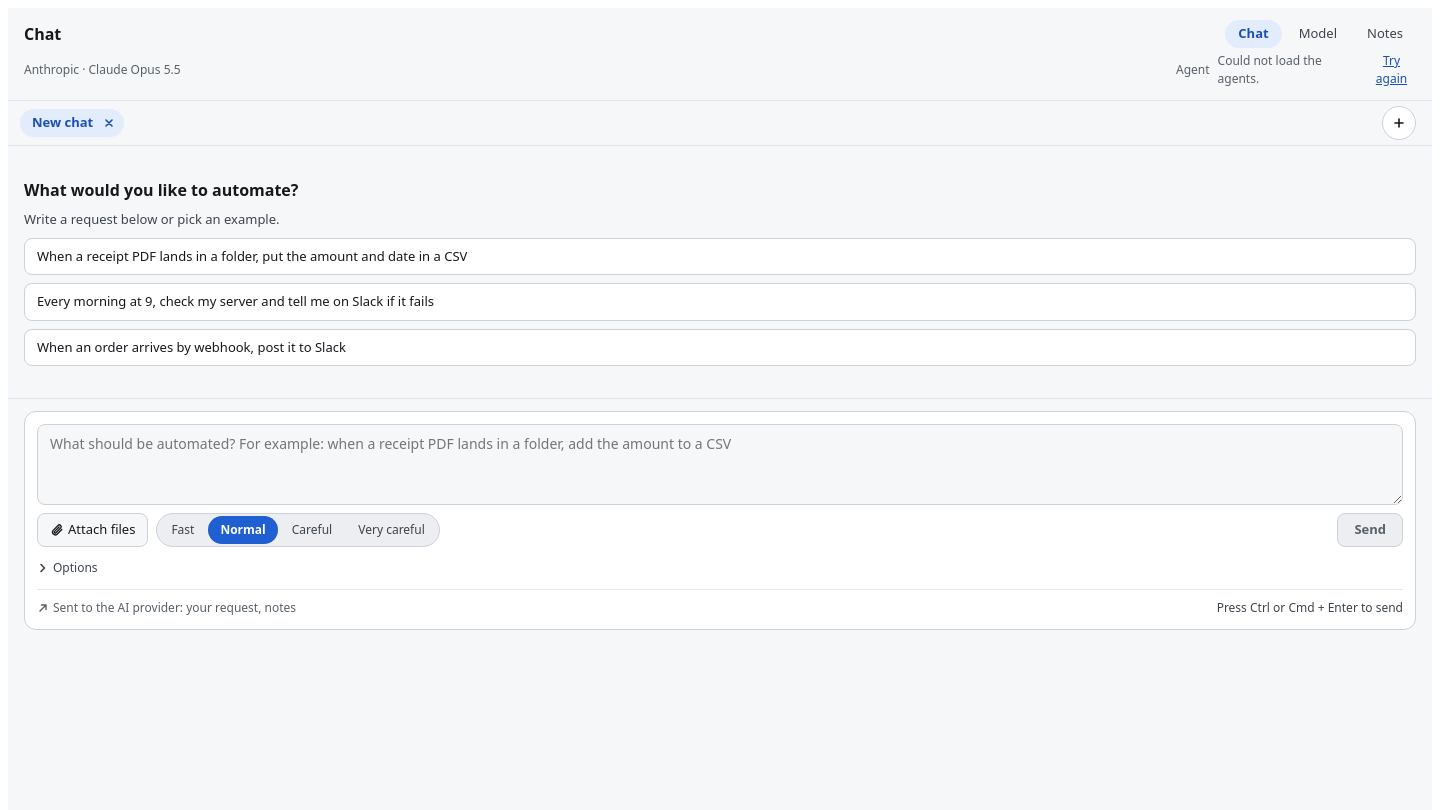
Scenario: plan requests carry the active agent › shows a retry when the list cannot be loaded, and loads again
The image size is (1440, 810).
Expected: the text "Could not load the agents." is shown, [1218,52,1322,87]
Click the button "Try again": (1392,70) [1367,52,1416,88]
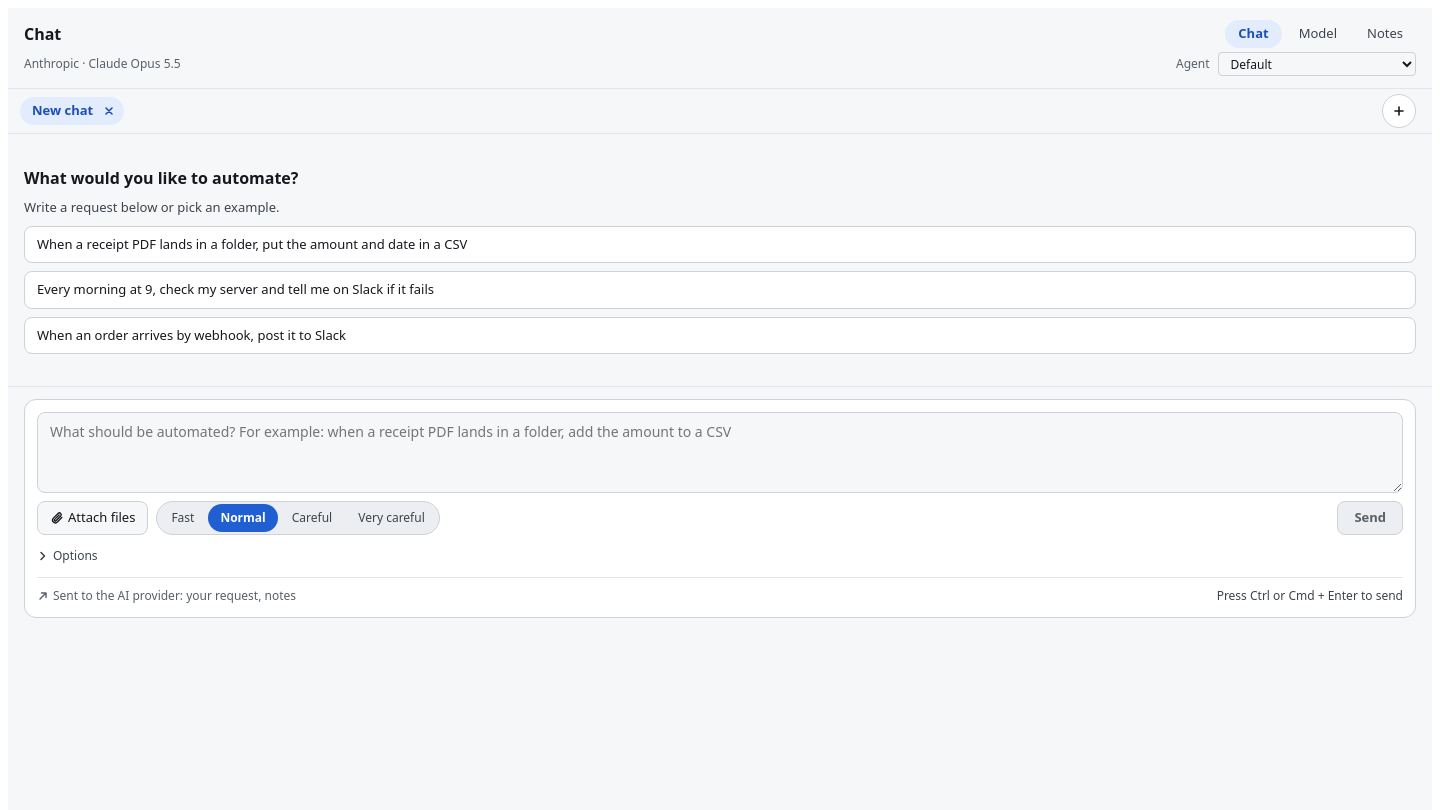
Result: the dropdown labelled "Agent" is shown at [1218,52,1416,76]
